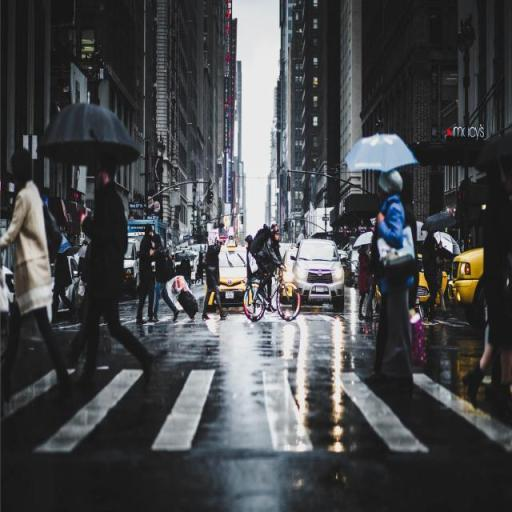person: (76, 158, 159, 392), (11, 145, 72, 407), (462, 173, 512, 412), (372, 175, 419, 397), (202, 235, 230, 322), (154, 230, 179, 324), (420, 234, 445, 328), (135, 222, 157, 323), (260, 223, 281, 318), (54, 257, 79, 325), (358, 247, 373, 322), (245, 231, 258, 310), (439, 250, 452, 323), (184, 259, 194, 292), (193, 257, 200, 287), (199, 251, 205, 285)
